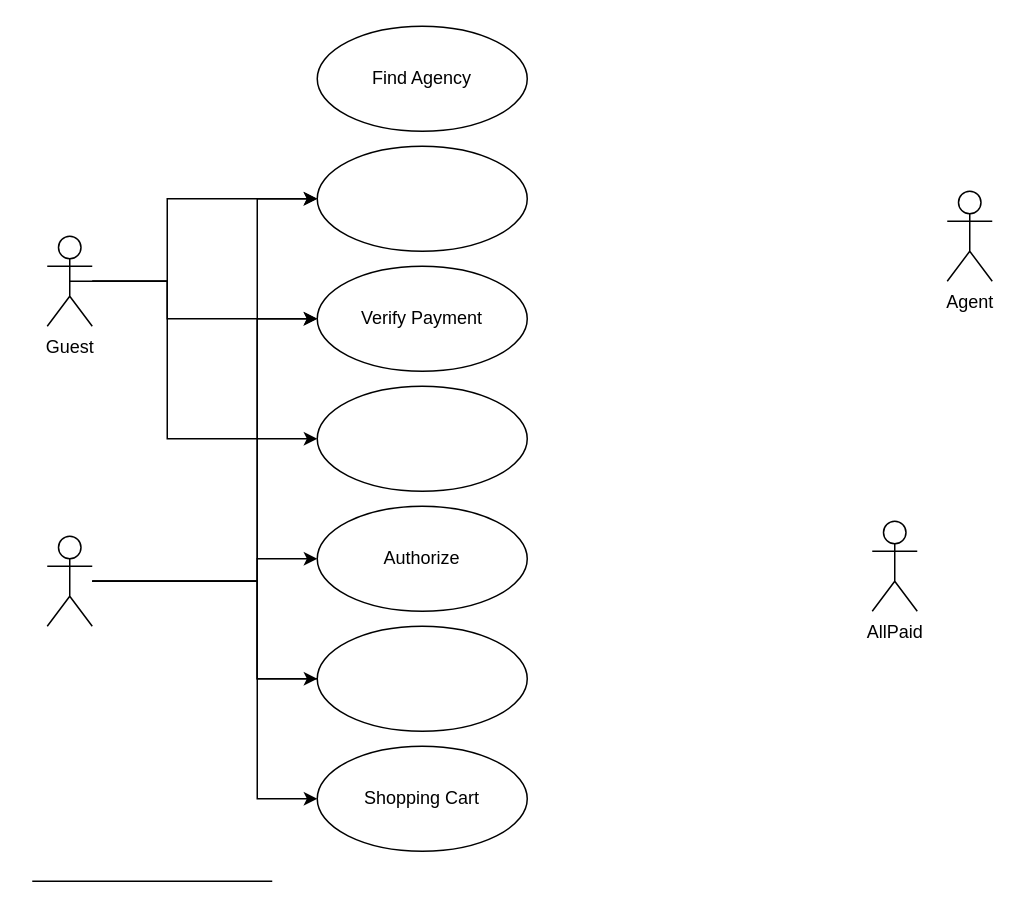
This 1019x909 diagram has some shape labels left out. The shapes that lost their labels are listed below. From the top down, each one's centre as x and y in pixels, then its label:
point (421, 198): Submit Payment
point (421, 438): Confirm Payment
point (69, 580): Registered
point (421, 678): Setup Recurring Payments
